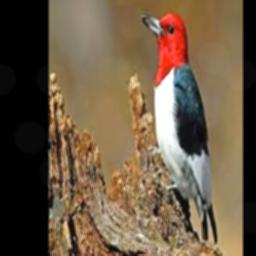Woodpecker: (142, 12, 218, 245)
